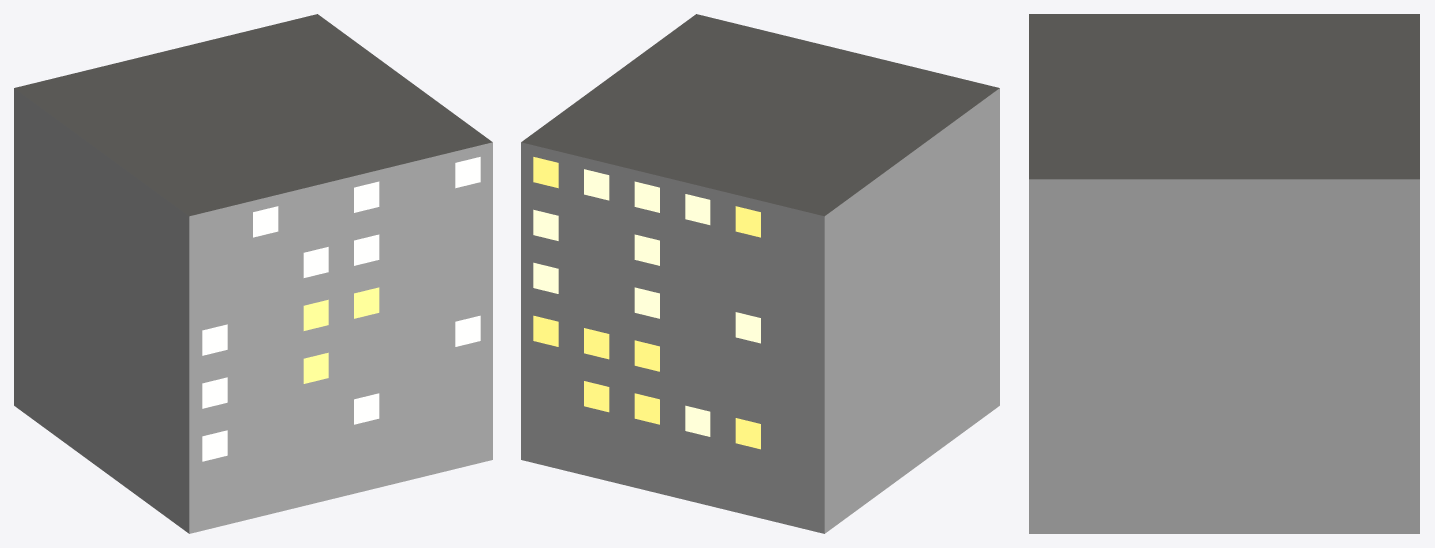
The model's file is city-block-lit-6.glb.
3 views of the same model, side by side, from view 1: azimuth 30°, elevation 25°; view 2: azimuth 150°, elevation 25°; view 3: azimuth 270°, elevation 25° (orthographic). The views are drawn at different scales.
Visible parts, largest first — view 1: city_block, window warm, window amber; view 2: city_block, window warm, window amber; view 3: city_block.
Boxes of the visible parts, x1,y1,x2,y2 form: city_block: (14, 14, 492, 533); window warm: (202, 157, 480, 461); window amber: (303, 287, 379, 383); city_block: (521, 14, 999, 533); window warm: (533, 169, 760, 436); window amber: (533, 157, 760, 449); city_block: (1029, 14, 1419, 533).
Bounding box in the file's own units: 1 × 1 × 1.
